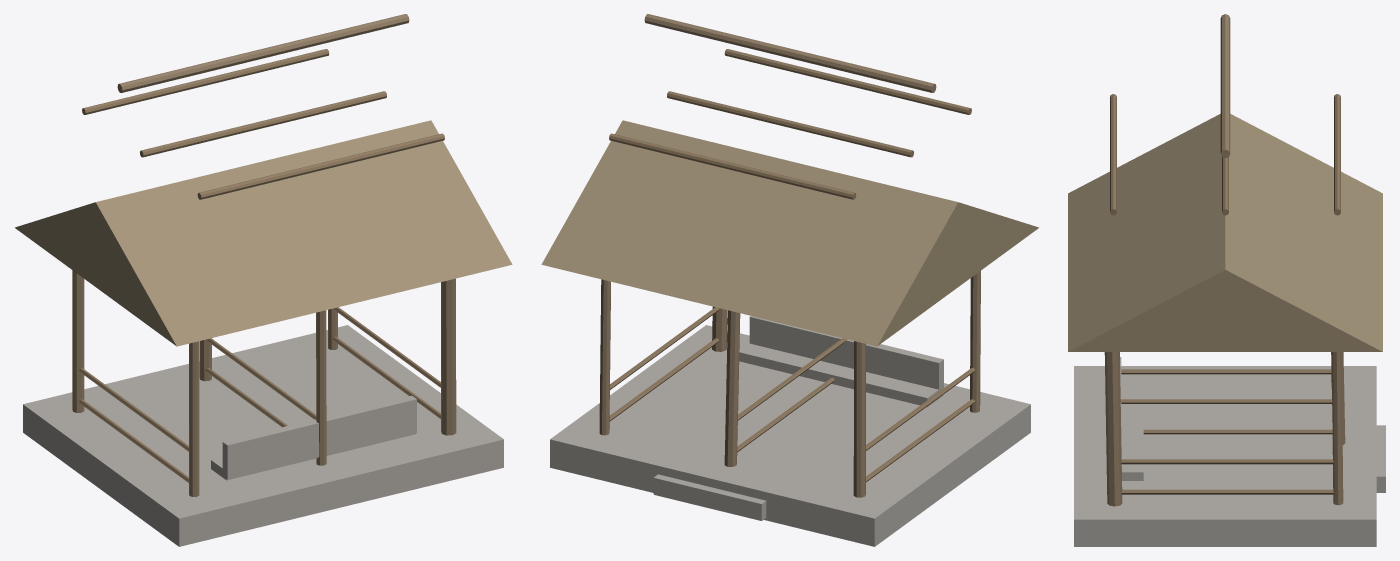
Rendered from cp_cop_cot.glb.
3 views of the same model, side by side, from view 1: azimuth 30°, elevation 25°; view 2: azimuth 150°, elevation 25°; view 3: azimuth 270°, elevation 25° (orthographic). The views are drawn at different scales.
Parts seen in each view (by area): view 1: CopCot; view 2: CopCot; view 3: CopCot.
Boxes of the visible parts, x1,y1,x2,y2 form: CopCot: [15, 14, 512, 546]; CopCot: [541, 14, 1038, 546]; CopCot: [1068, 14, 1385, 546].
Bounding box in the file's own units: 6.2 × 7.08 × 5.25.
